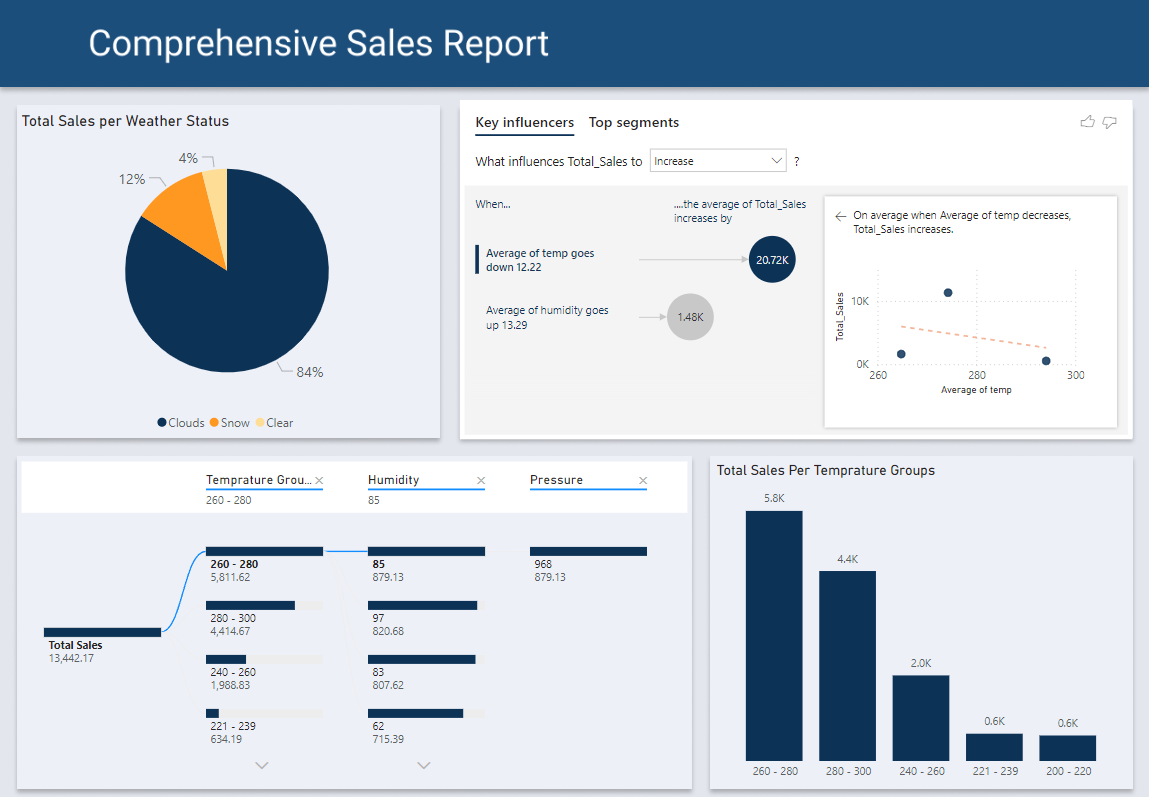

This screenshot's page, from the dashboard's own definition file:
{"tool":"powerbi","page":{"name":"Page 2","canvas":[1280,900],"ordinal":1},"visuals":[{"type":"columnChart","title":"Total Sales Per Temprature Groups","fields":{"Category":["sales_fact.Temp_Groups"],"Y":["_Measures_Table.Total_Sales"]},"box":[792.2,508.9,466.7,367.8],"z":0},{"type":"keyDriversVisual","fields":{"Target":["_Measures_Table.Total_Sales"],"ExplainBy":["Avg(sales_fact.temp)","Avg(sales_fact.humidity)"],"Details":["sales_fact.weather"]},"box":[512.2,112.2,746.7,376.7],"z":1000},{"type":"pieChart","title":"Total Sales per Weather Status","fields":{"Y":["_Measures_Table.Total_Sales"],"Category":["sales_fact.weather"]},"box":[20,120,466.7,368.9],"z":2000},{"type":"decompositionTreeVisual","fields":{"Analyze":["_Measures_Table.Total_Sales"],"ExplainBy":["sales_fact.Temp_Groups","sales_fact.humidity","sales_fact.pressure"]},"box":[20,508.9,750,367.8],"z":3000}]}

Visuals, with their boxes in screenshot pixels (x1, y1, x2, y2), scaled from the page's 1280x900 canvas onto the 1149x797 screenshot:
"Total Sales Per Temprature Groups" columnChart: [711,451,1130,776]
keyDriversVisual - _Measures_Table.Total_Sales x Avg(sales_fact.temp): [460,99,1130,433]
"Total Sales per Weather Status" pieChart: [18,106,437,433]
decompositionTreeVisual - _Measures_Table.Total_Sales x sales_fact.Temp_Groups: [18,451,691,776]
